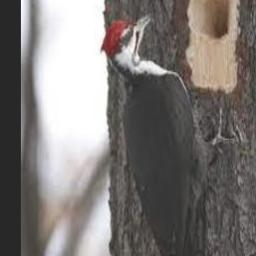Woodpecker: (101, 13, 234, 256)
